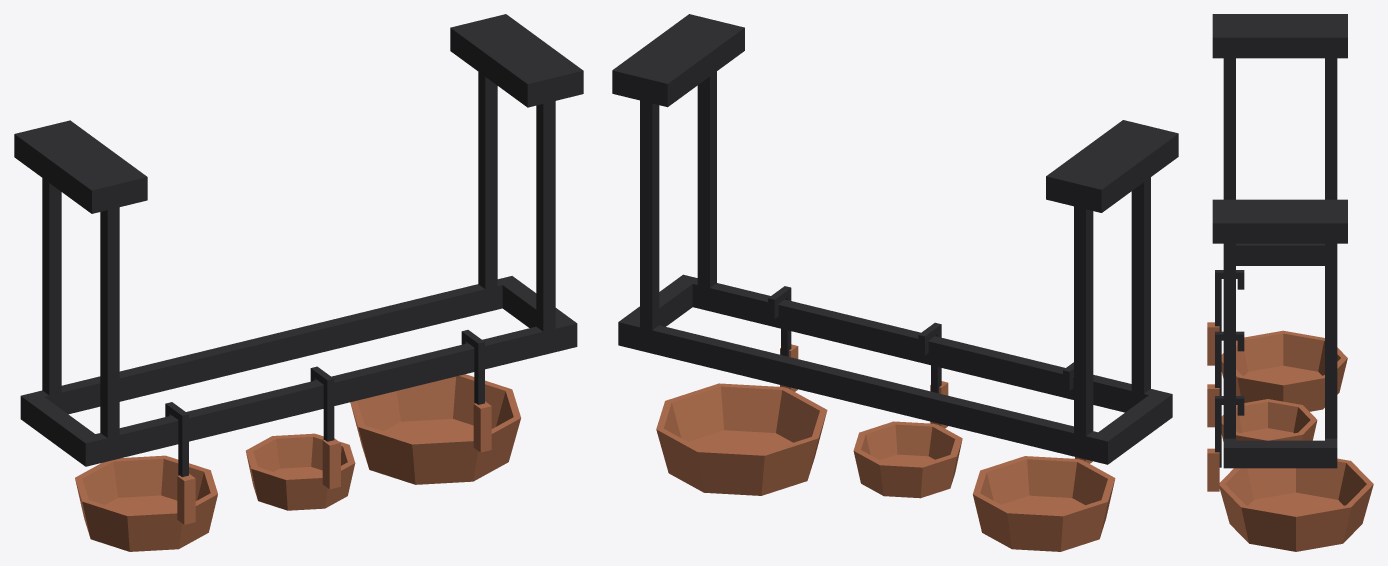
The model's file is FN_Rack_Pot.obj.
The picture shows the model from 3 angles, left to right: view 1: azimuth 30°, elevation 25°; view 2: azimuth 150°, elevation 25°; view 3: azimuth 270°, elevation 25°; orthographic projection. The views are drawn at different scales.
Visible parts, largest first — view 1: FN_Rack_Pot; view 2: FN_Rack_Pot; view 3: FN_Rack_Pot.
Boxes of the visible parts, bbox=[...] form: FN_Rack_Pot: bbox=[14, 14, 583, 551]; FN_Rack_Pot: bbox=[612, 14, 1178, 551]; FN_Rack_Pot: bbox=[1207, 14, 1373, 551].
Size of the model in its own units: 0.88 by 0.673 by 0.296.
Materials: 1 (1 with a texture image).
